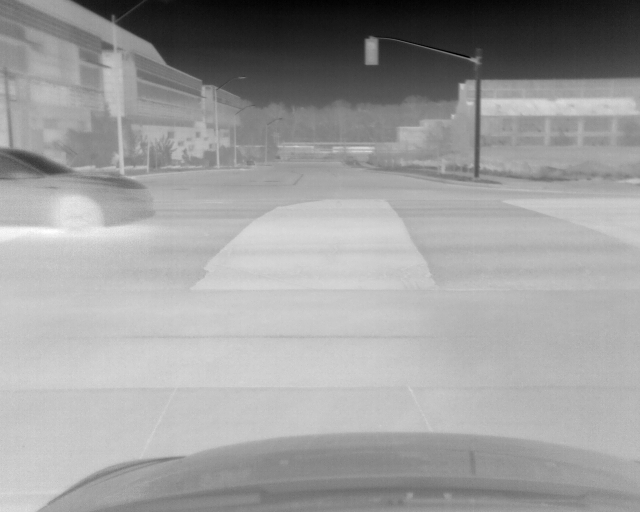car: (1, 146, 156, 231)
